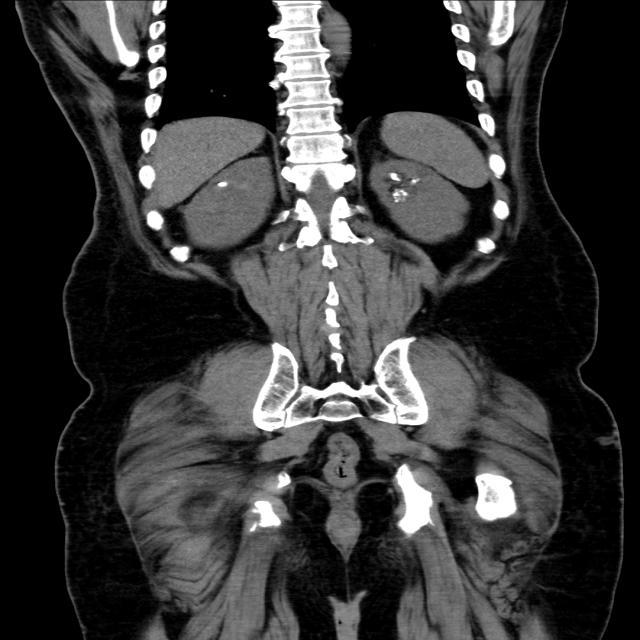kidneystone: (393, 189, 408, 195), (388, 172, 399, 179), (218, 181, 228, 186), (412, 179, 419, 184)
